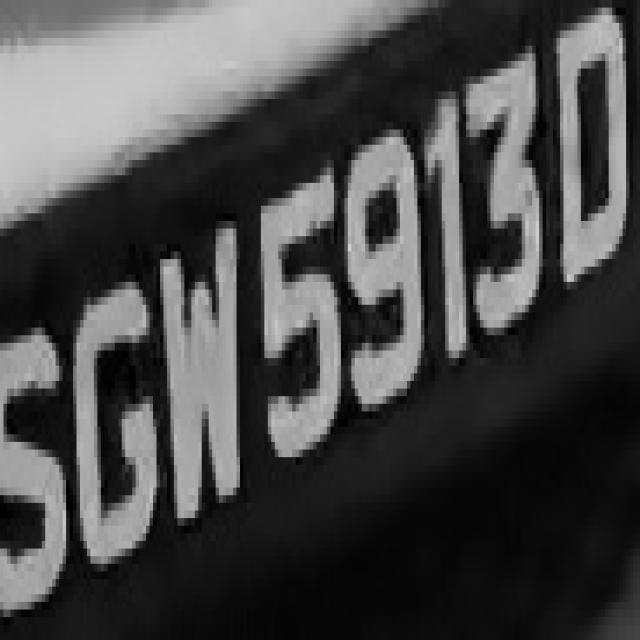1: (421, 69, 473, 381)
3: (456, 38, 546, 351)
5: (247, 160, 344, 480)
9: (327, 130, 431, 426)
D: (550, 0, 633, 290)
G: (70, 236, 156, 594)
S: (7, 259, 73, 640)
W: (146, 191, 251, 548)
